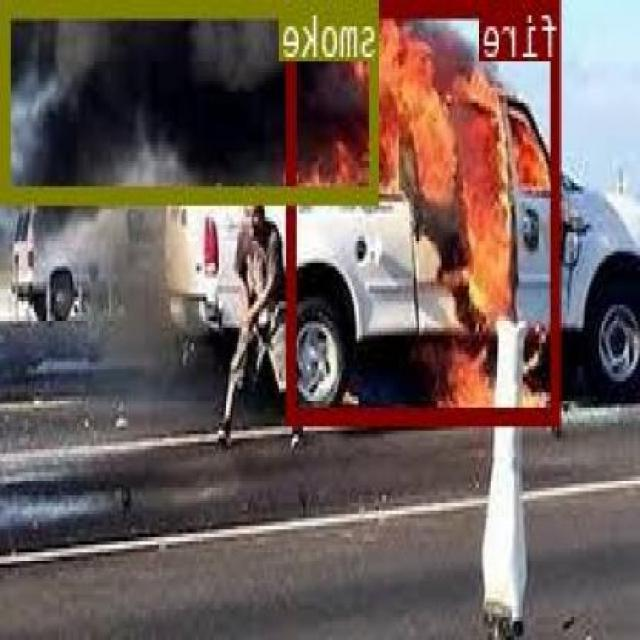Fire: (287, 0, 564, 423)
Smoke: (5, 0, 382, 198)
